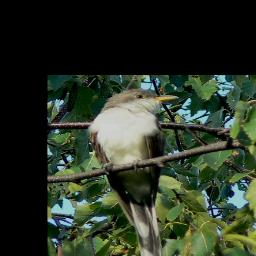Cuckoo: (89, 87, 180, 256)
